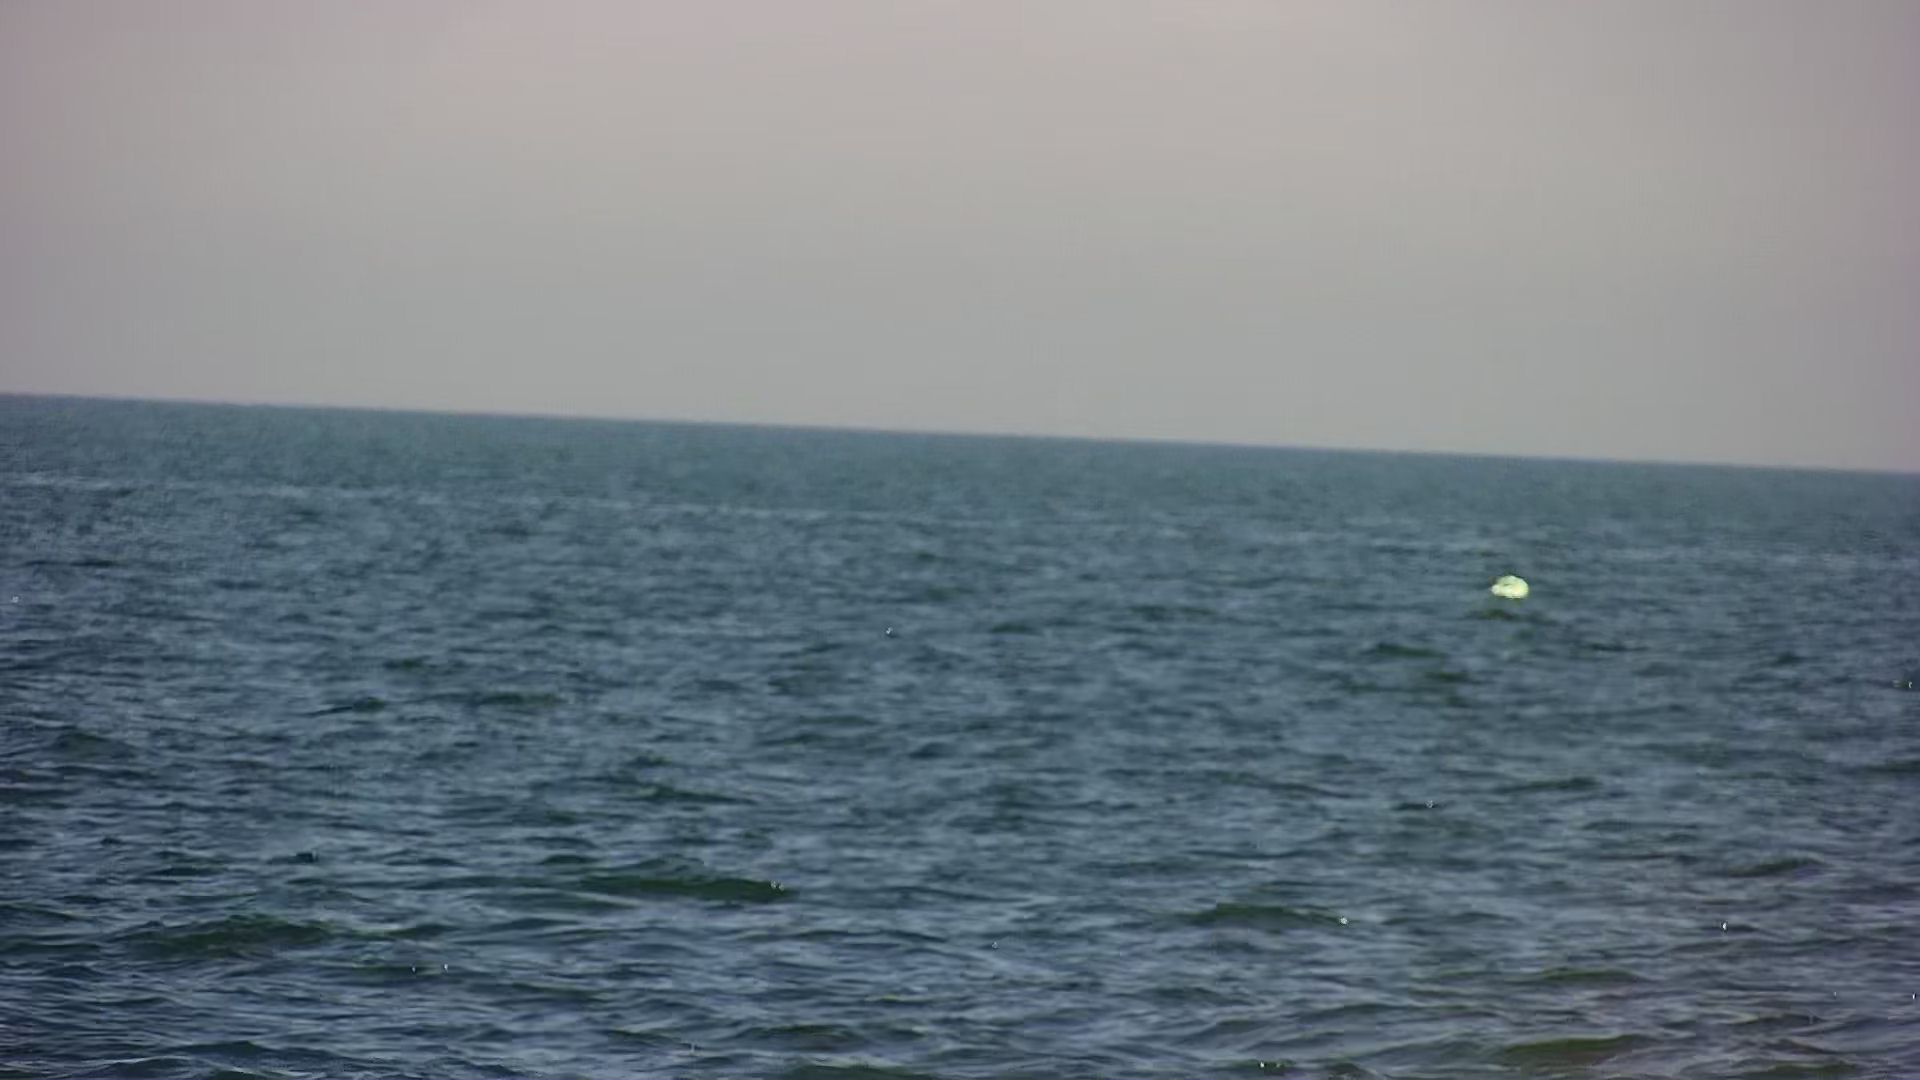rubbish: (1486, 560, 1540, 607)
